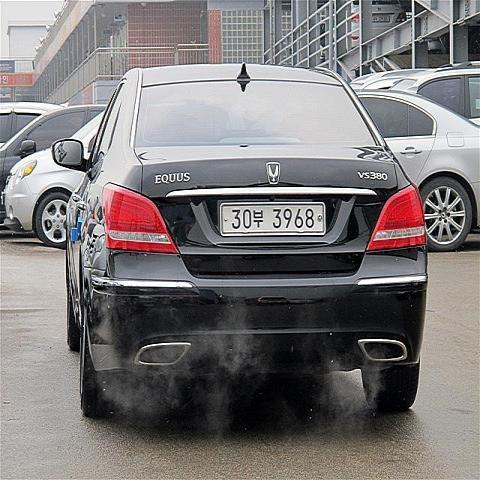LP: (208, 196, 336, 240)
